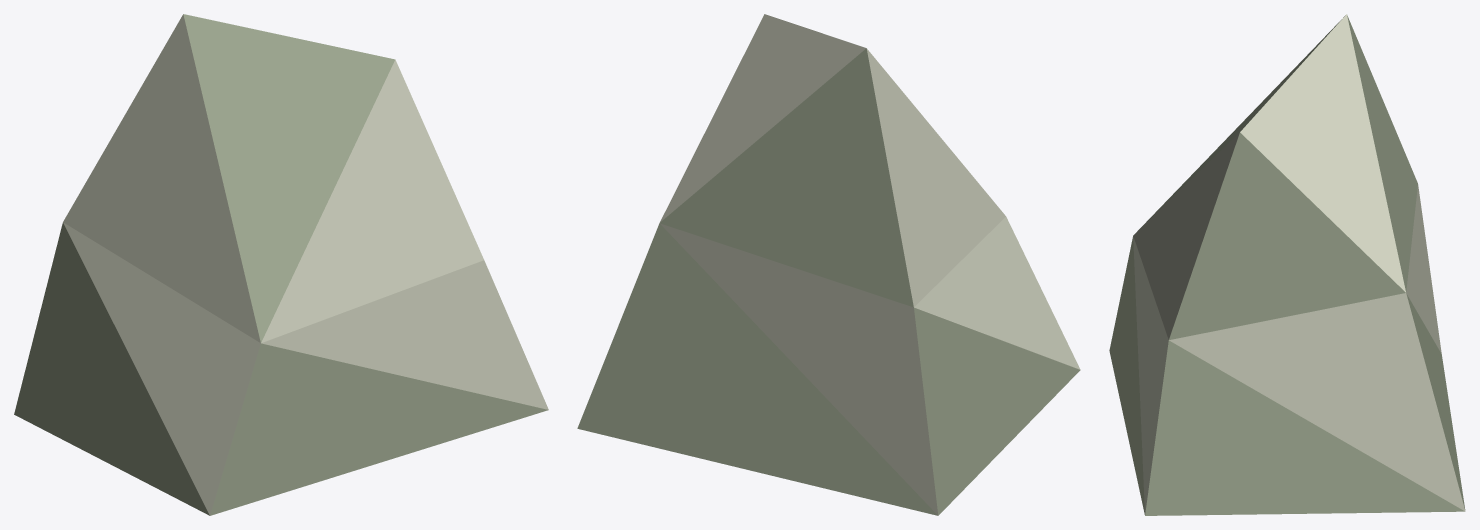
3 renders of one model, left to right at view 1: azimuth 30°, elevation 25°; view 2: azimuth 150°, elevation 25°; view 3: azimuth 270°, elevation 25°, orthographic. The views are drawn at different scales.
Visible parts, largest first — view 1: Silicate_Fragment; view 2: Silicate_Fragment; view 3: Silicate_Fragment.
Part boxes in pixels (x1,y1,x2,y2): Silicate_Fragment: [14, 14, 548, 515]; Silicate_Fragment: [577, 14, 1080, 515]; Silicate_Fragment: [1109, 14, 1465, 515].
Bounding box in the file's own units: 0.73 × 0.74 × 0.6.
